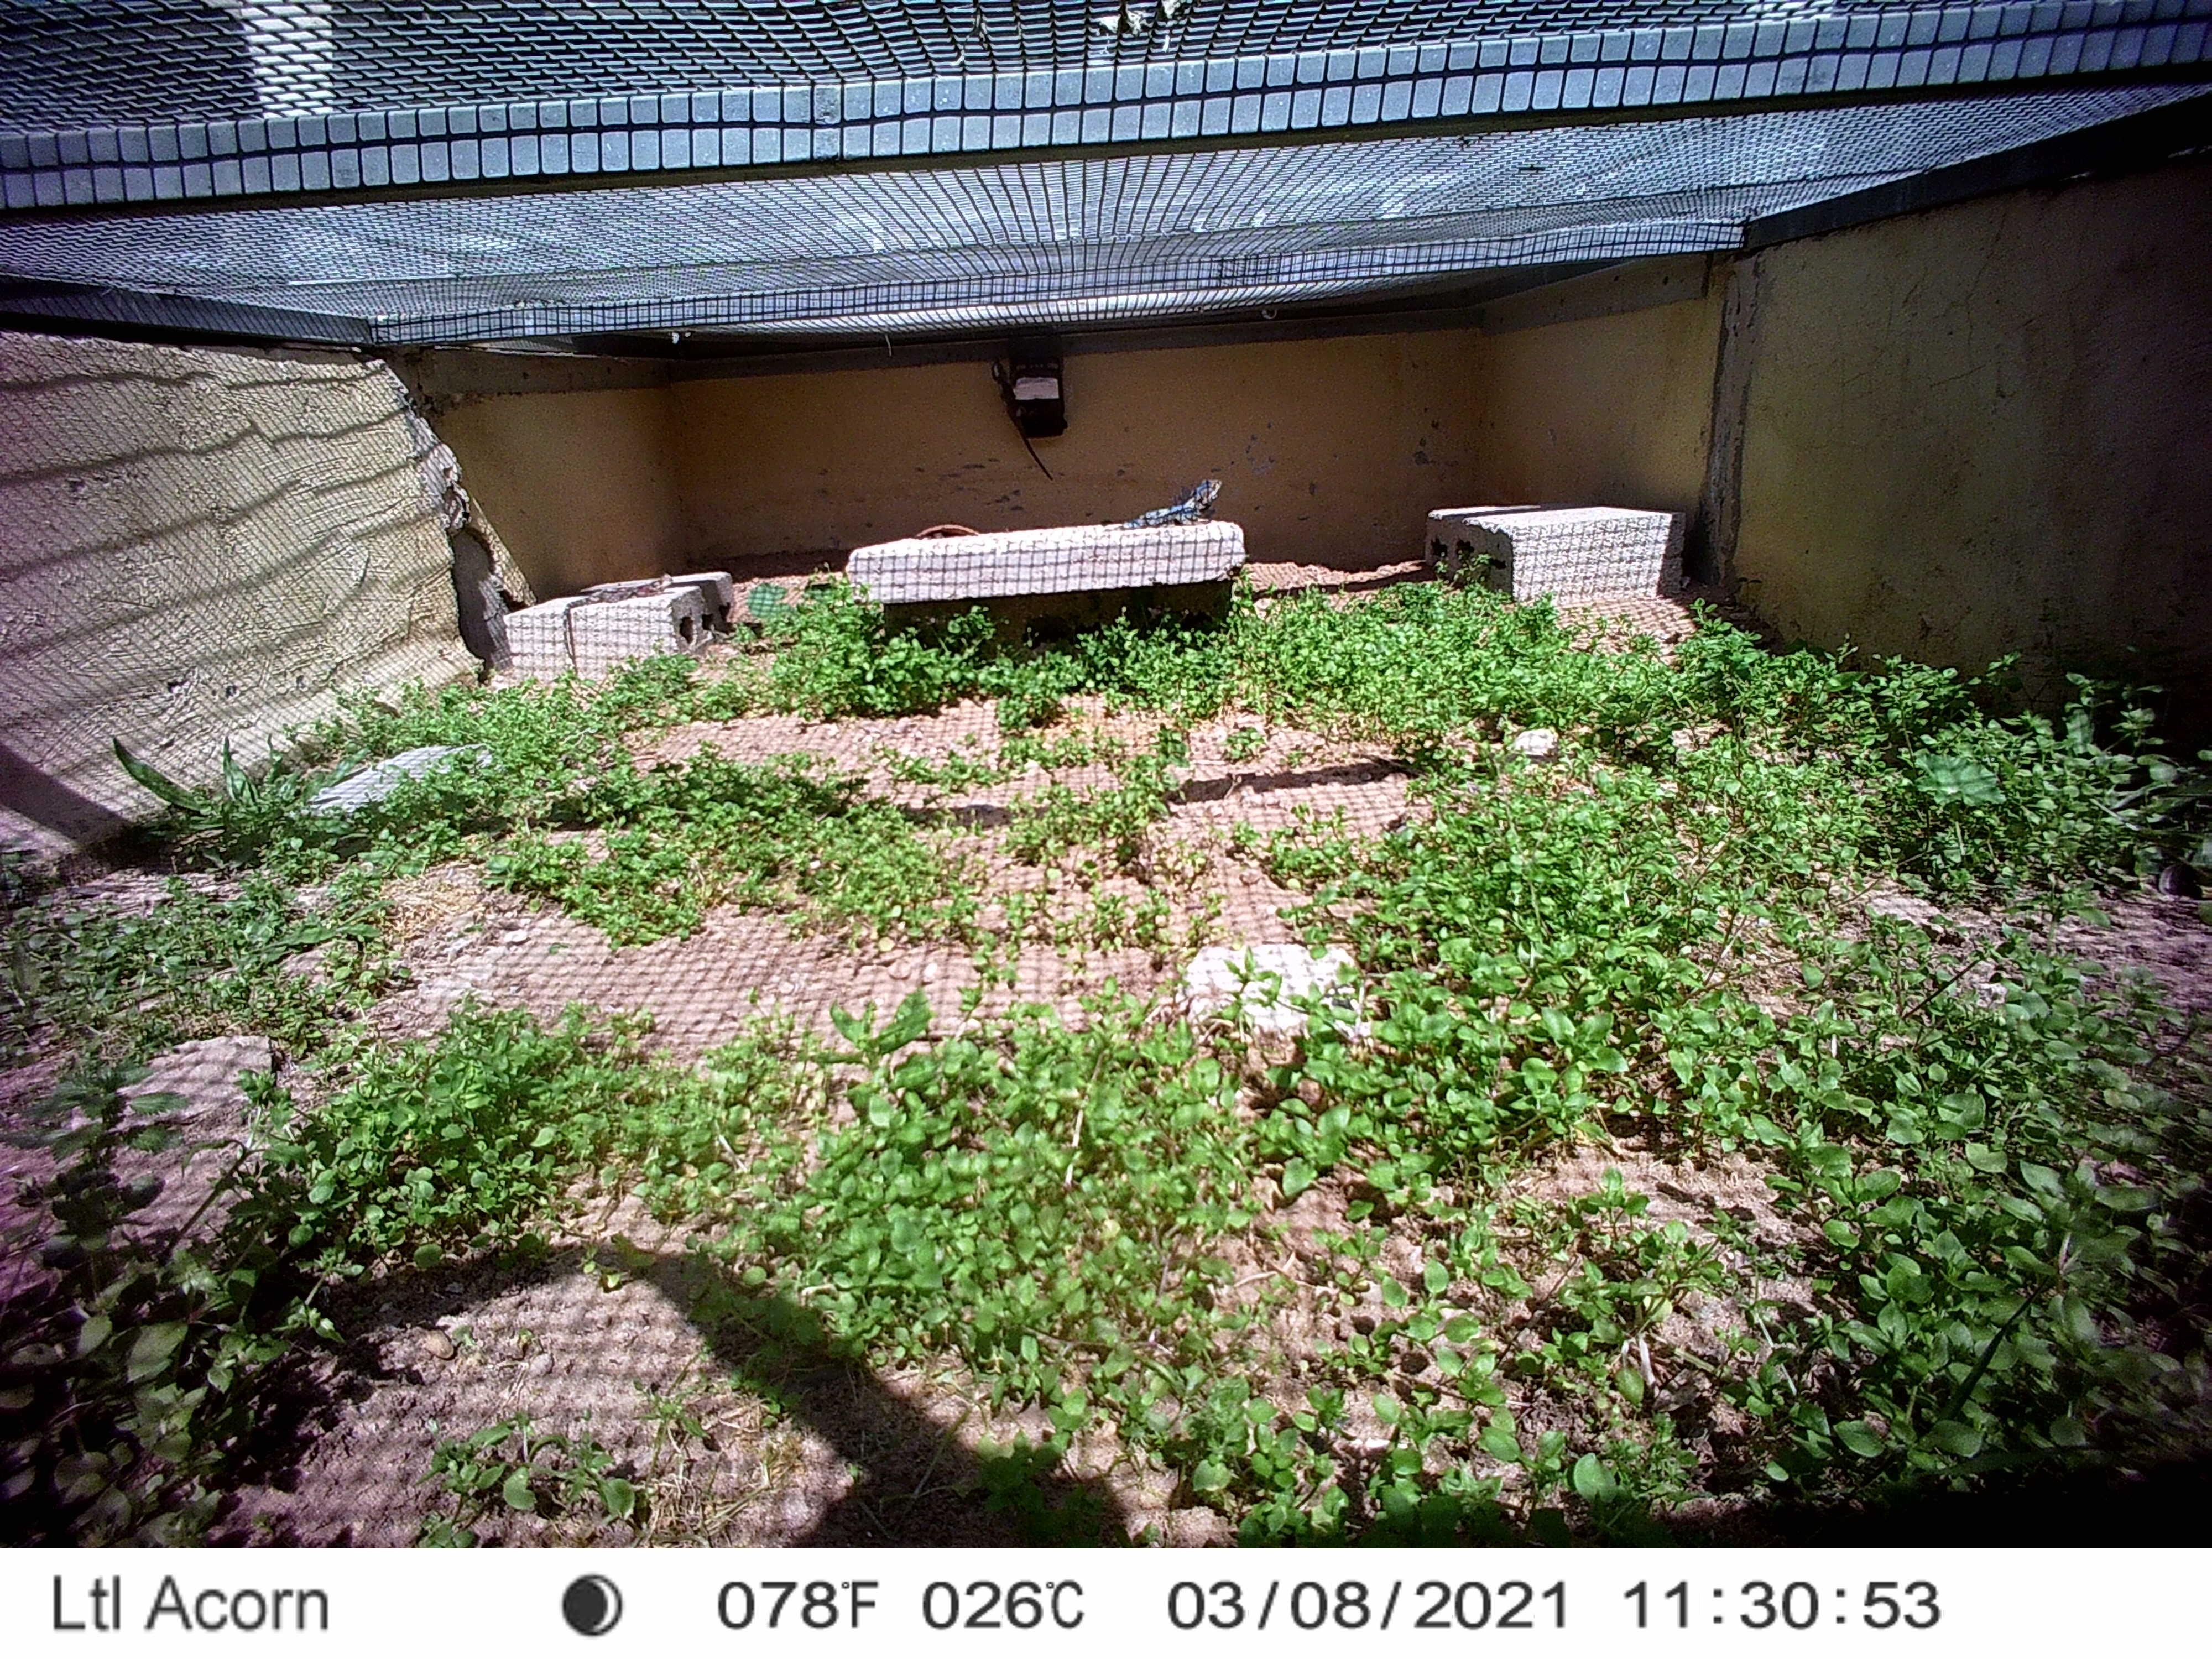lizard: (556, 568, 681, 660), (988, 357, 1064, 481), (1101, 474, 1223, 535)
